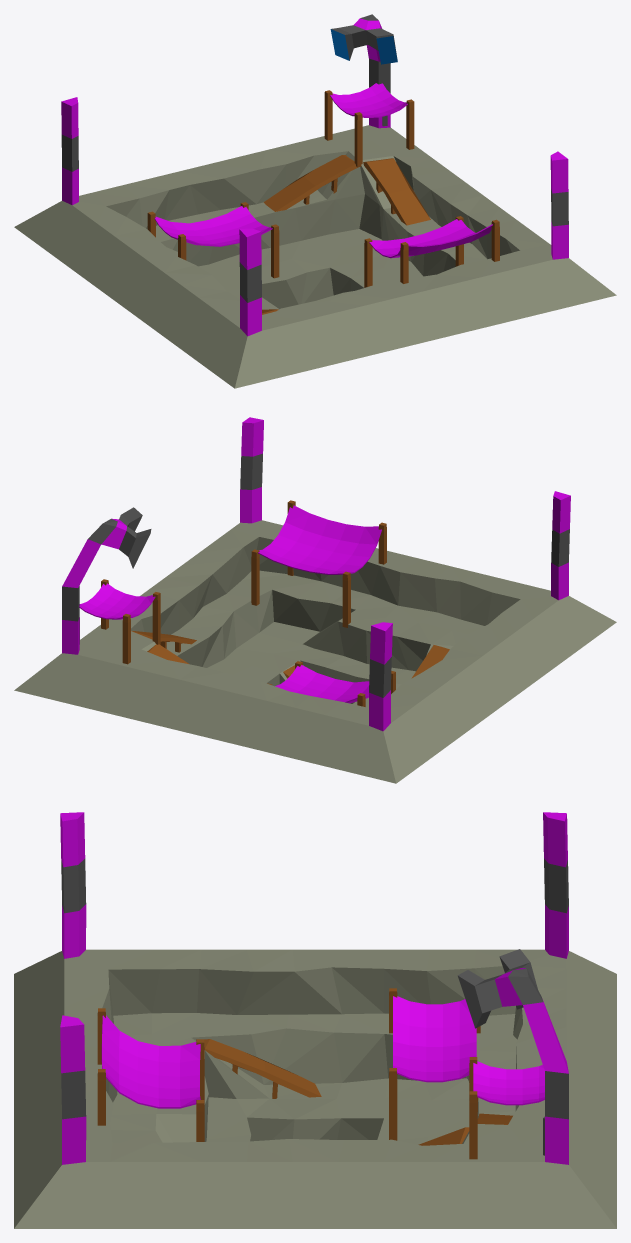
The model's file is quarry.fbx.
The picture shows the model from 3 angles, top to bottom: view 1: azimuth 30°, elevation 25°; view 2: azimuth 150°, elevation 25°; view 3: azimuth 270°, elevation 25°; orthographic projection. The views are drawn at different scales.
Visible parts, largest first — view 1: Quarry, Parasol.003, Parasol.002, Parasol.001, Ramp.004, Ramp.001; view 2: Quarry, Parasol.003, Parasol.001, Parasol.002; view 3: Quarry, Parasol.003, Parasol.002, Parasol.001, Ramp.003.
Boxes of the visible parts, x1,y1,x2,y2 form: Quarry: (14, 14, 616, 388); Parasol.003: (364, 216, 499, 287); Parasol.002: (147, 202, 279, 278); Parasol.001: (324, 83, 414, 167); Ramp.004: (363, 158, 430, 225); Ramp.001: (263, 155, 357, 211); Quarry: (14, 417, 616, 783); Parasol.003: (251, 500, 386, 627); Parasol.001: (79, 579, 160, 664); Parasol.002: (267, 661, 395, 706); Quarry: (14, 812, 616, 1228); Parasol.003: (97, 1008, 204, 1141); Parasol.002: (389, 988, 480, 1140); Parasol.001: (469, 1057, 544, 1159); Ramp.003: (204, 1039, 321, 1098).
Bounding box in the file's own units: 1200 × 694 × 1200.
